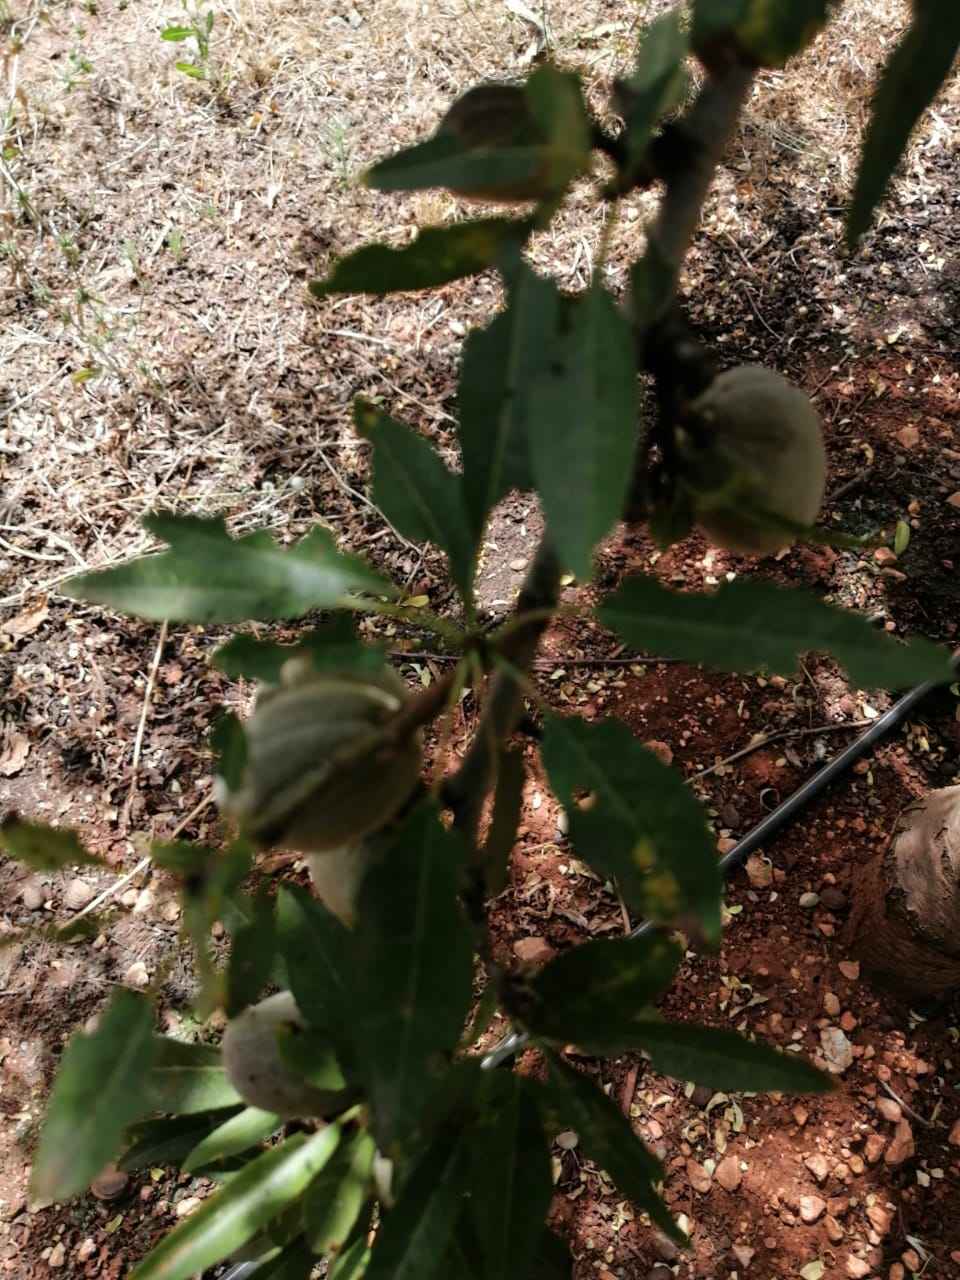othyorinques: (351, 395, 474, 606), (141, 508, 396, 598)
